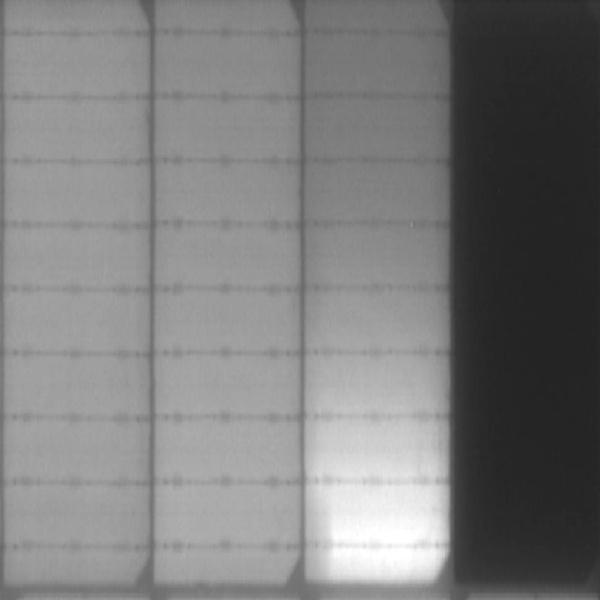hot_spot: (327, 497, 434, 541), (335, 550, 425, 568)
no_electricity: (451, 1, 596, 596)
